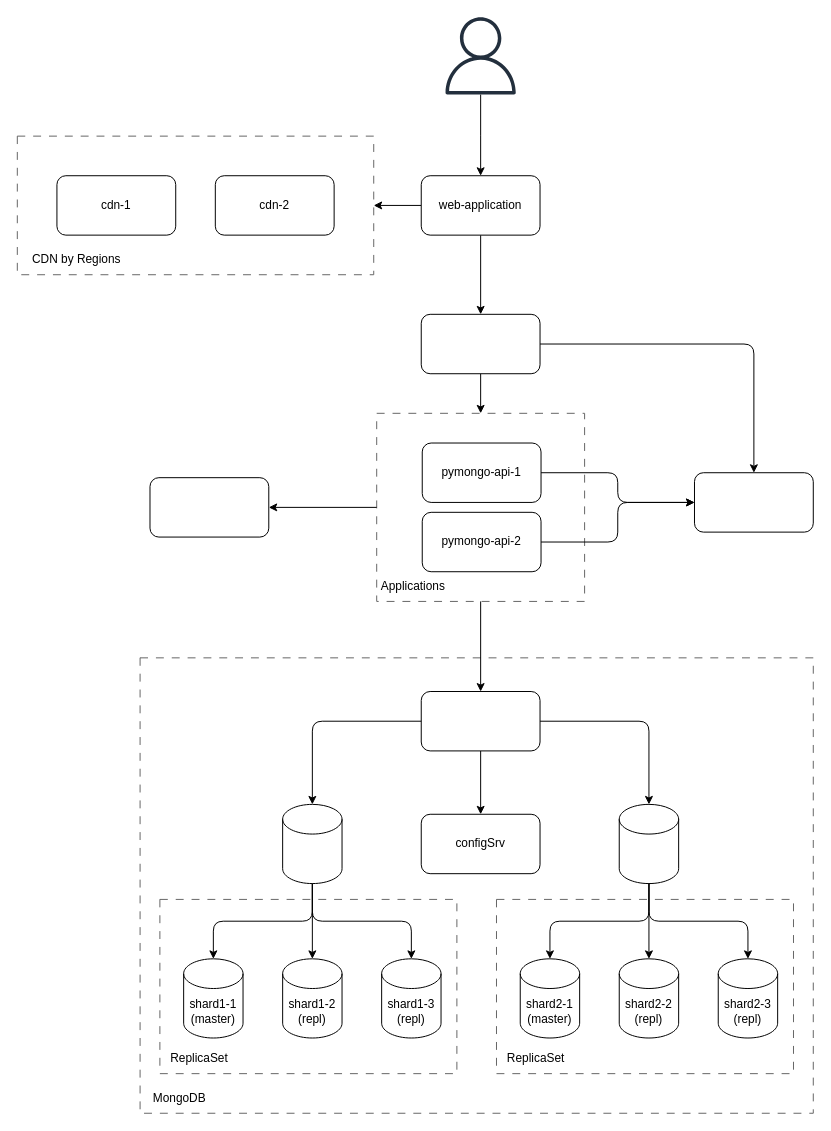
The diagram is 831 pixels wide and 1131 high, and some of its shapes have lost their labels. Here are the shapes that lost their labels. From the top down, the box of each, then its label:
(420, 313, 540, 374): api-gateway
(149, 477, 269, 537): redis
(693, 472, 813, 532): consul
(420, 691, 540, 751): mongos_router
(282, 803, 342, 884): shard1
(618, 803, 679, 884): shard2
